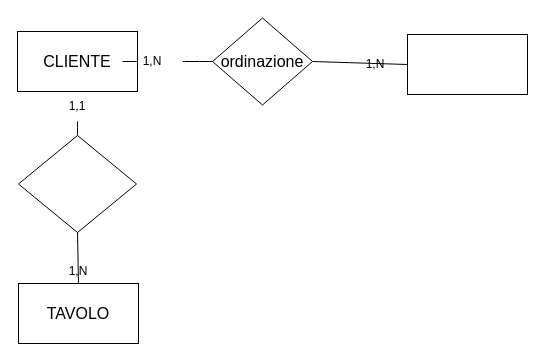
Image size: 545x361. Some labels were removed from this diagram. Here are the shapes that lost their labels. From the top down, the box of each, then its label:
(406, 34, 528, 94): PRODOTTO
(18, 134, 136, 232): prenotazione
